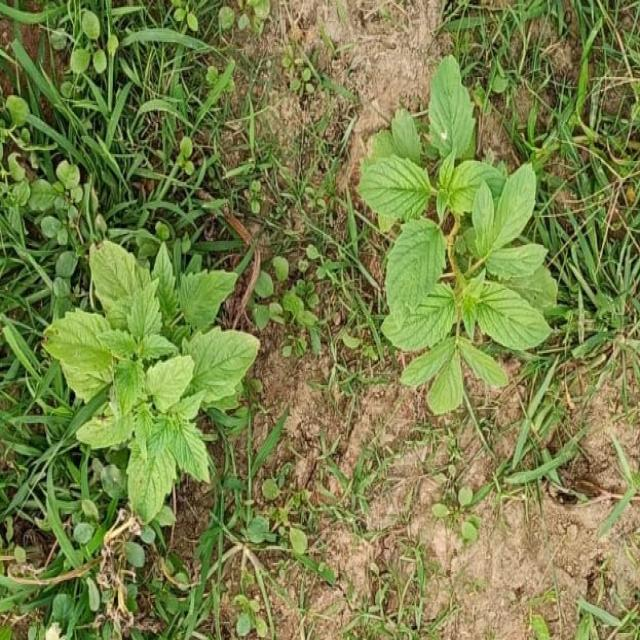plant: (359, 56, 556, 413), (44, 240, 258, 521)
